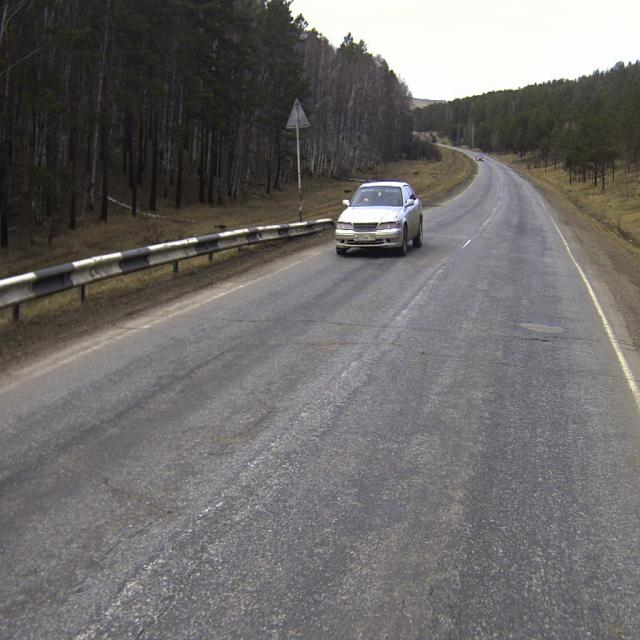road: (0, 156, 640, 639)
